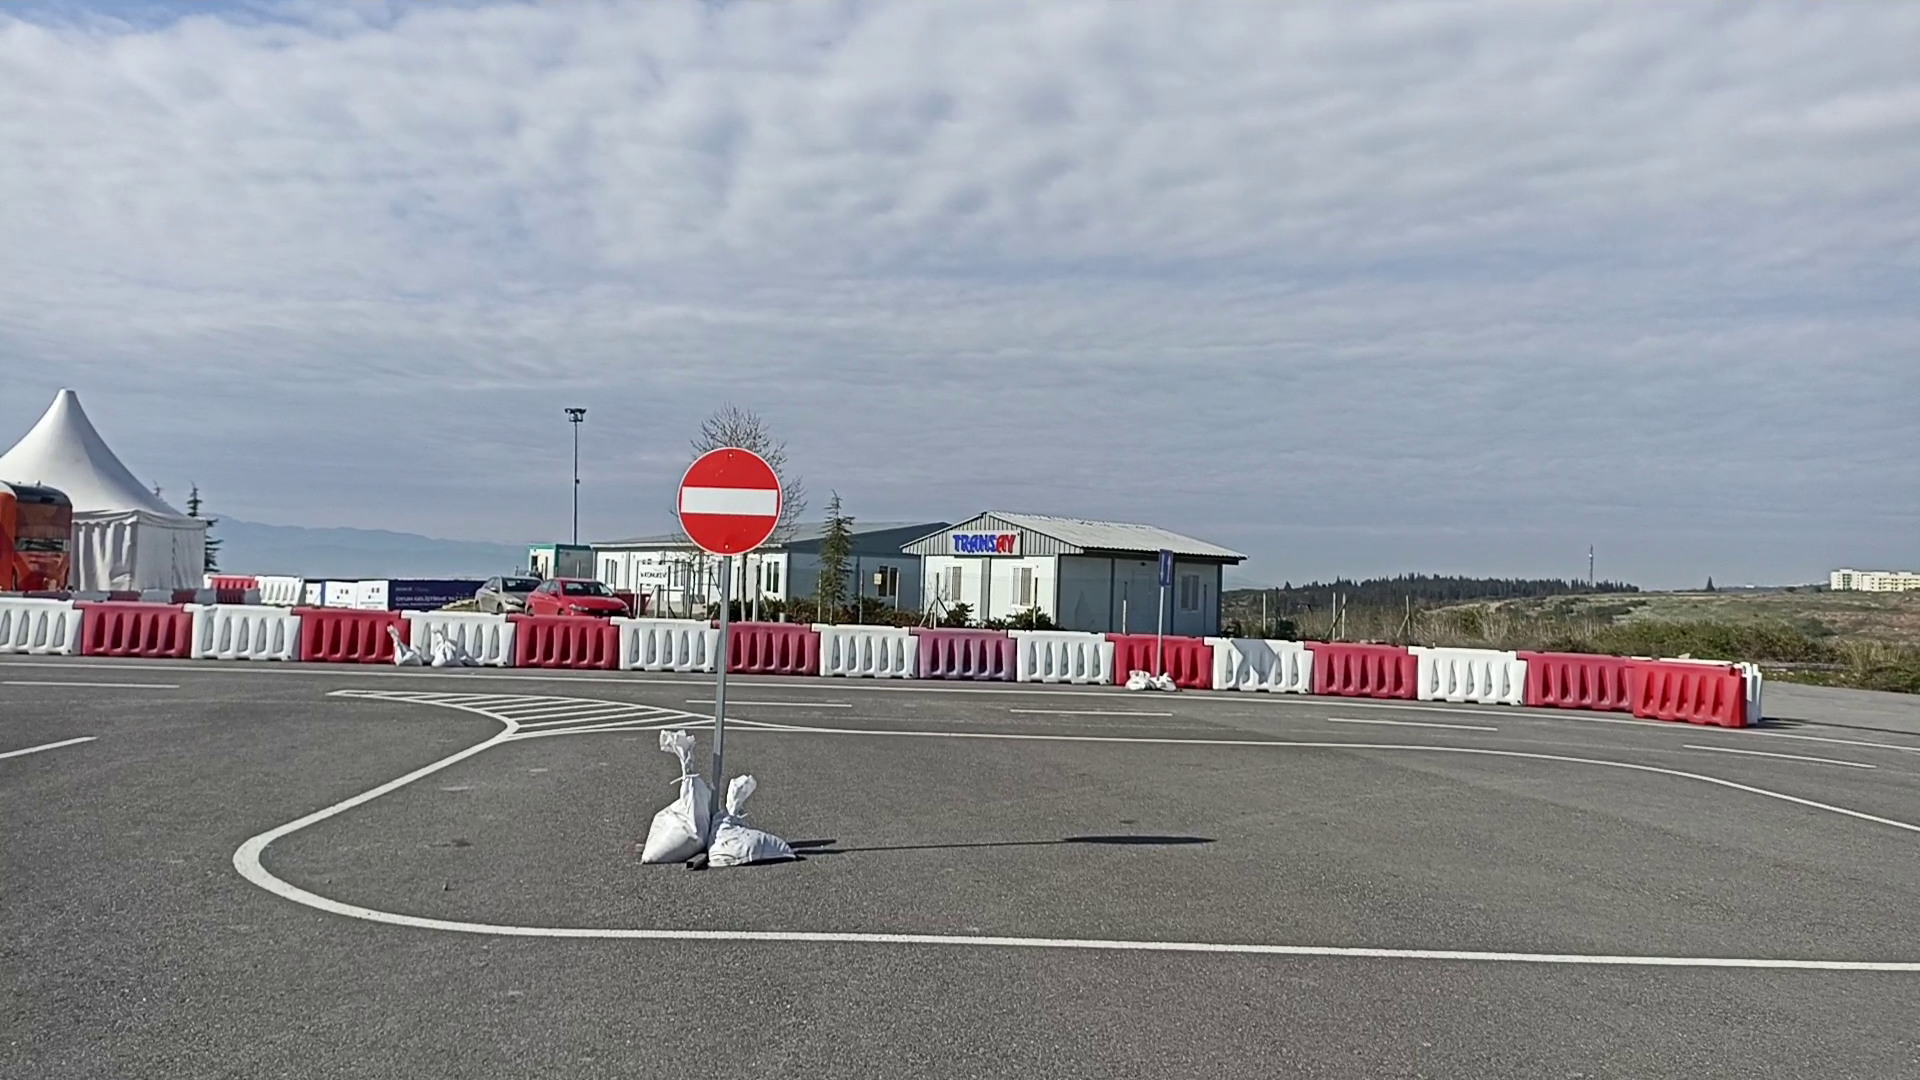noentryway: (674, 444, 783, 558)
